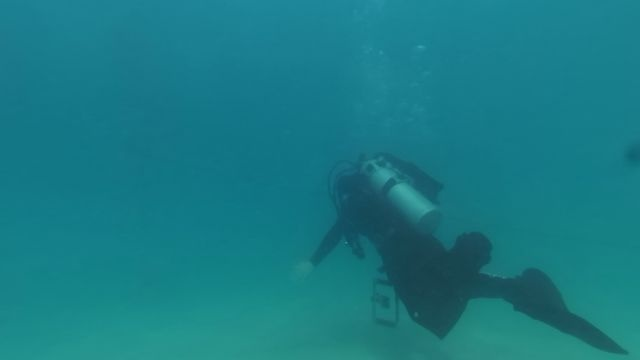Diver: (282, 142, 635, 358)
Hand: (291, 247, 324, 293)
